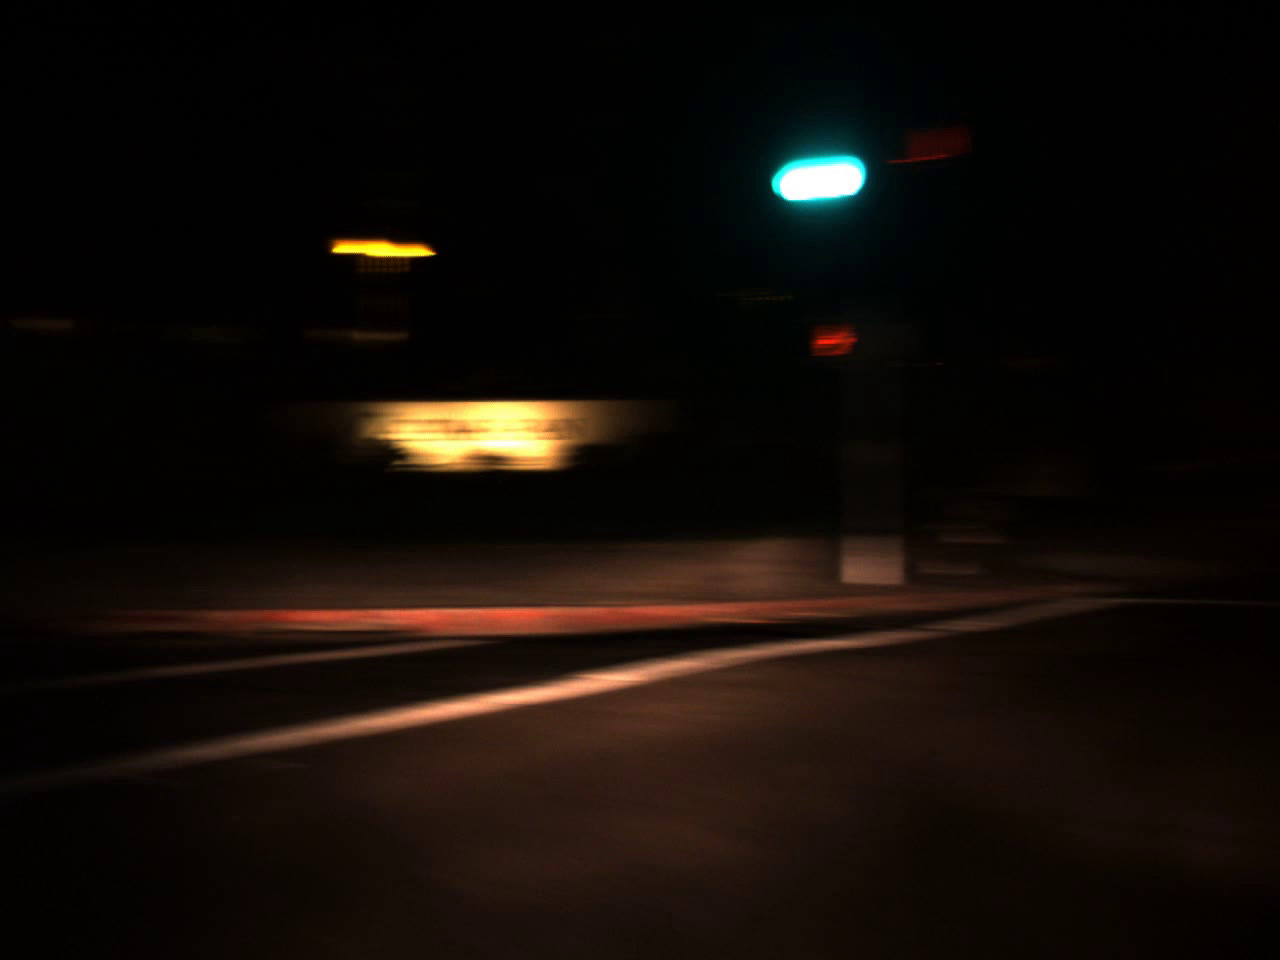go: (755, 89, 872, 221)
